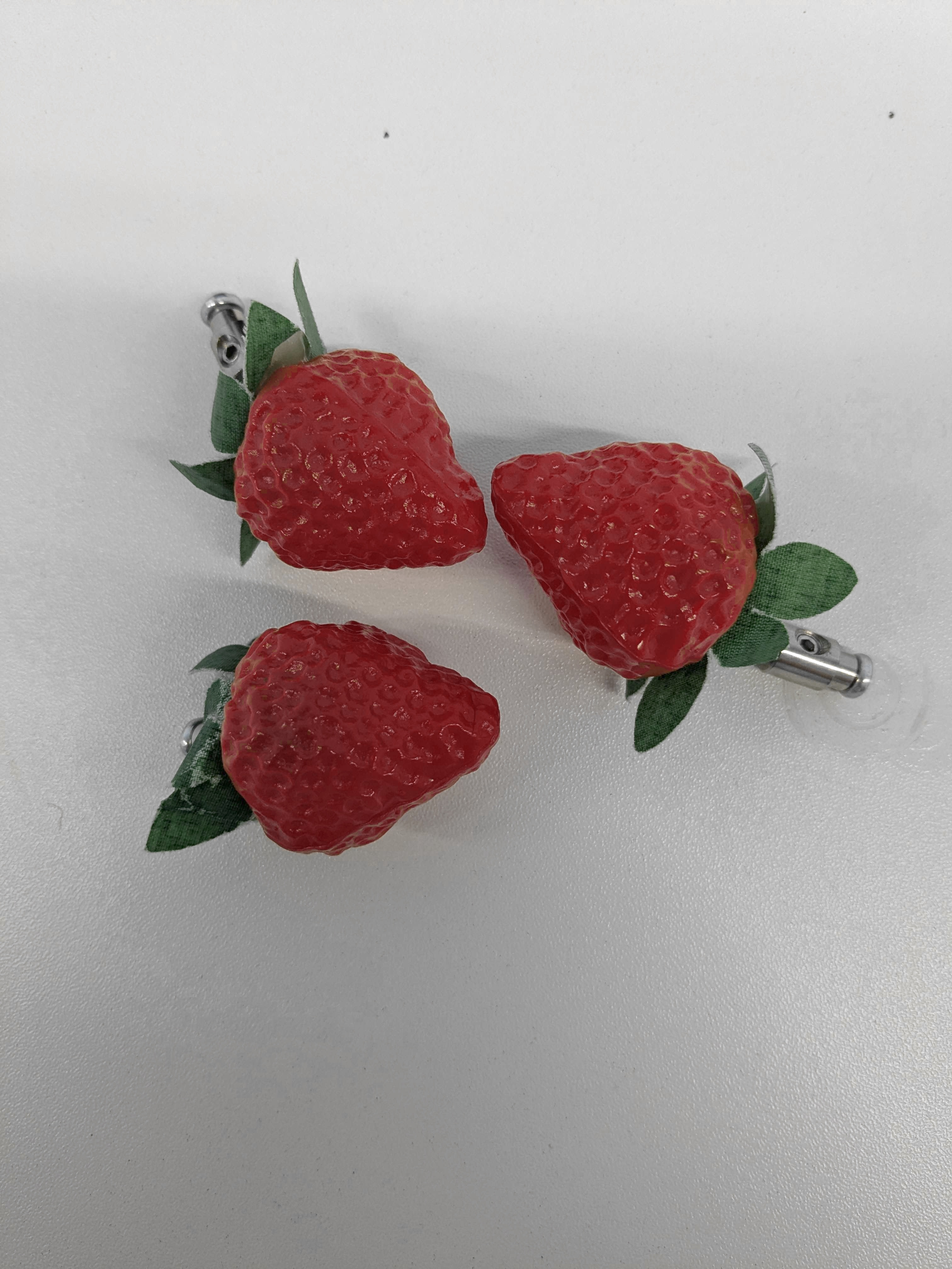Strawberry: (472, 415, 765, 668), (211, 343, 507, 589), (223, 608, 504, 867)
